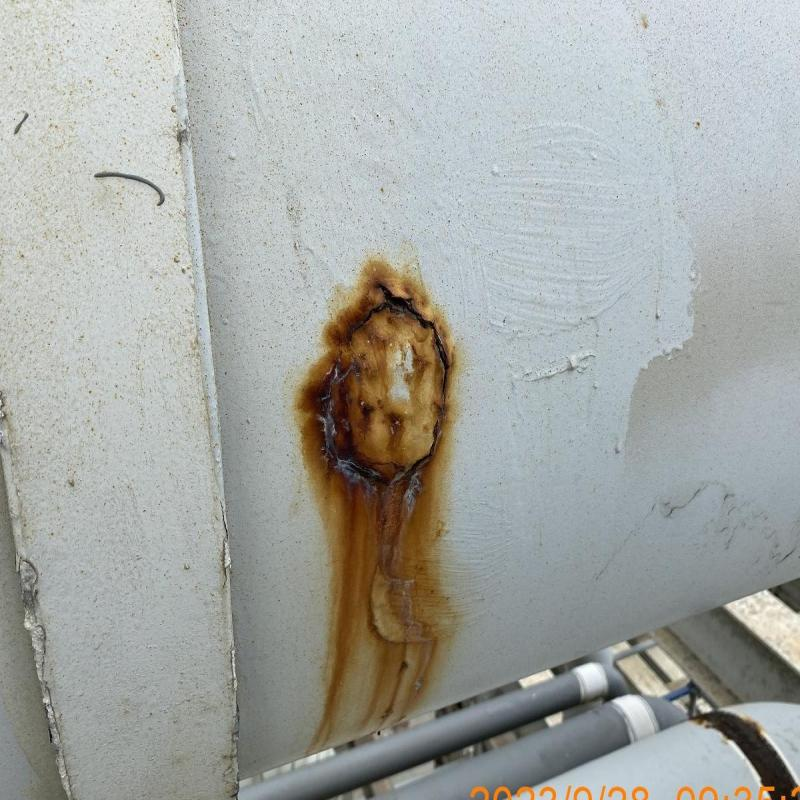Fracture: (419, 316, 457, 470), (314, 352, 348, 481), (336, 286, 429, 321)
corrosion: (300, 283, 482, 540)
